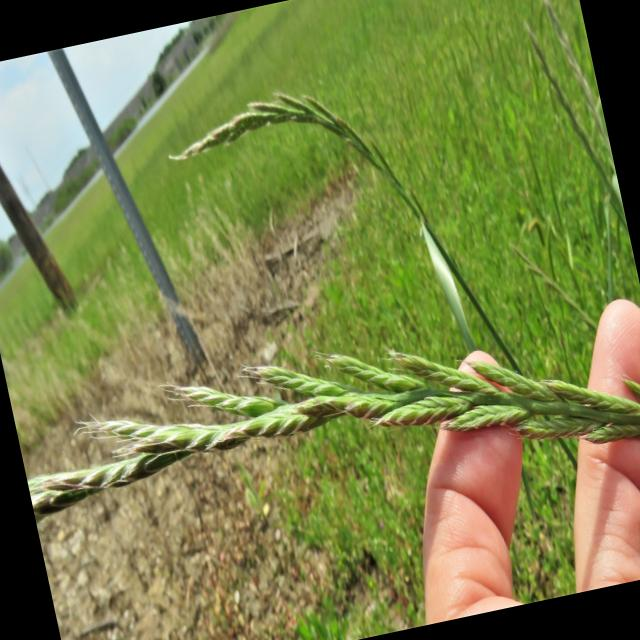Lolium: (13, 275, 640, 574), (156, 65, 428, 278), (524, 12, 624, 224), (541, 0, 613, 167)
